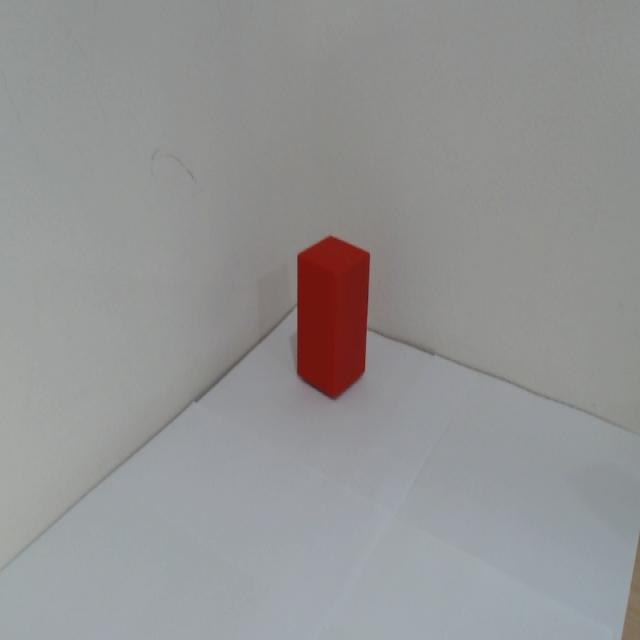cube: (293, 231, 373, 407)
